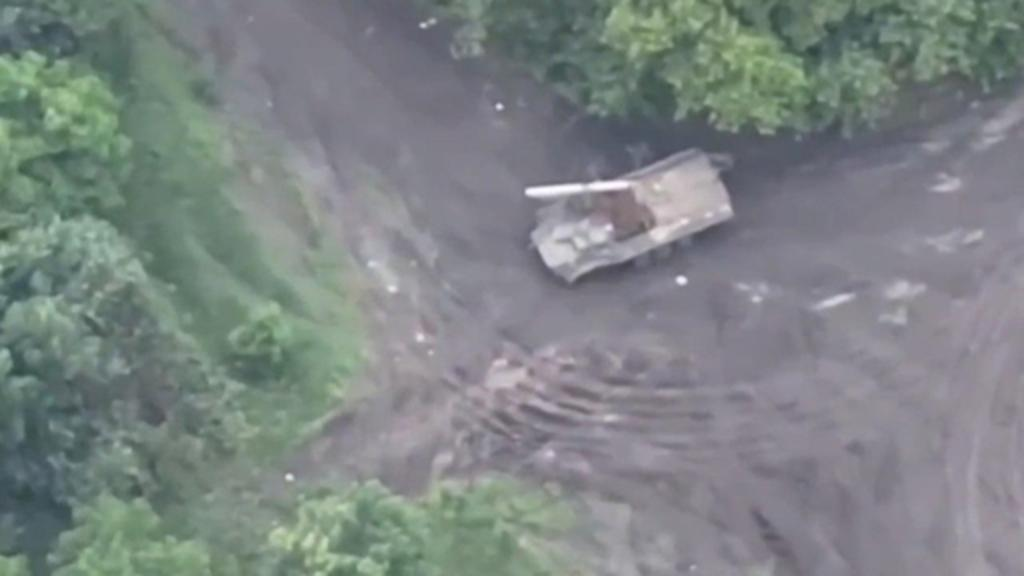APC-IFV: (516, 142, 738, 284)
